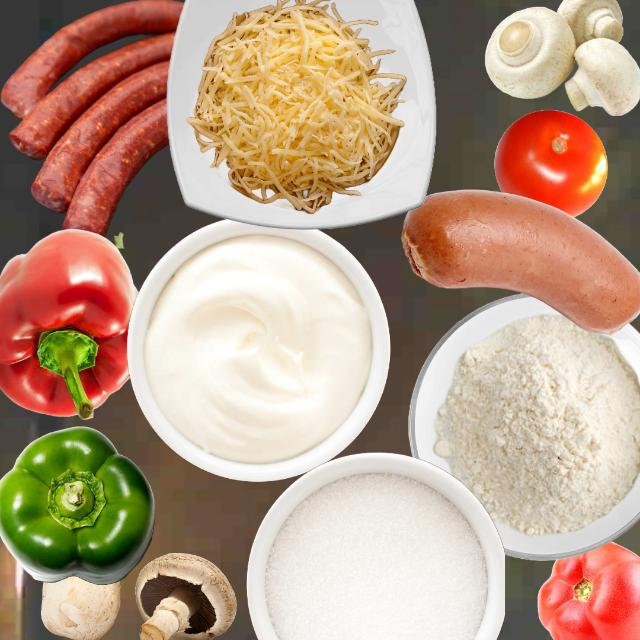Flour: (433, 313, 639, 535)
Sugar: (263, 471, 487, 638)
